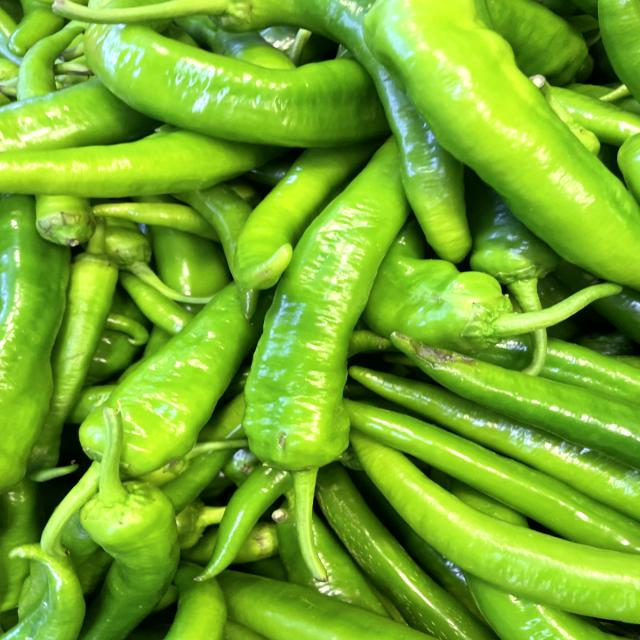green pepper: (239, 133, 469, 594)
